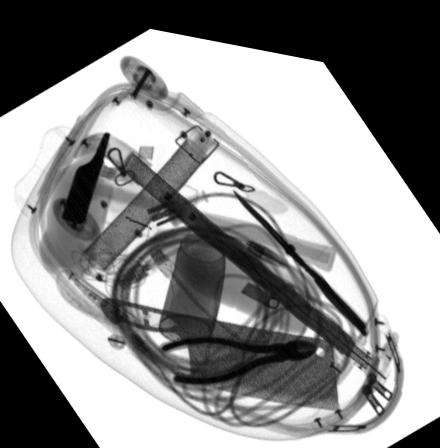Hammer: (60, 128, 337, 259)
Knife: (100, 293, 339, 399)
Pliers: (158, 327, 319, 379)
Scissors: (235, 180, 368, 322)
